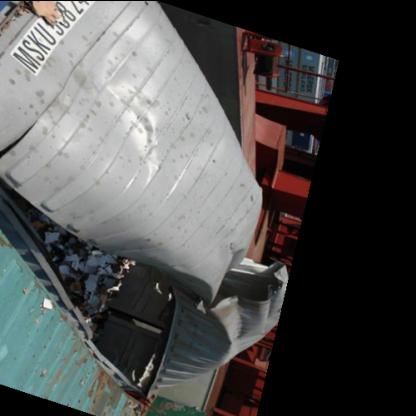Damage: (0, 190, 168, 332)
